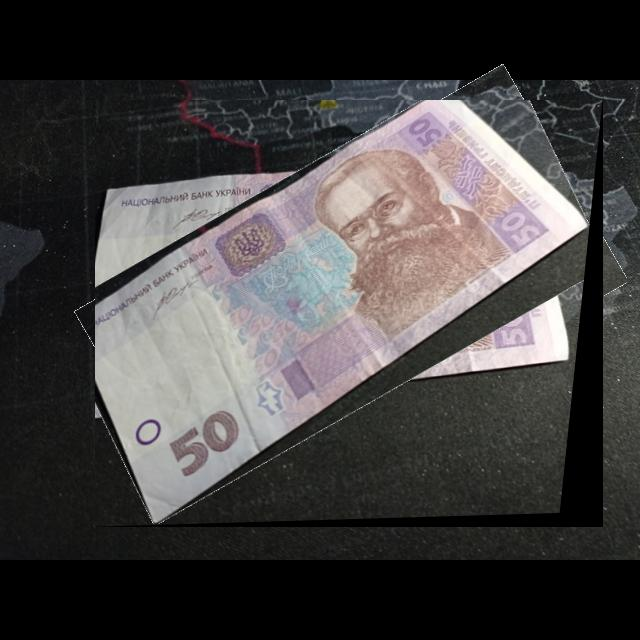50uah: (95, 100, 593, 526)
